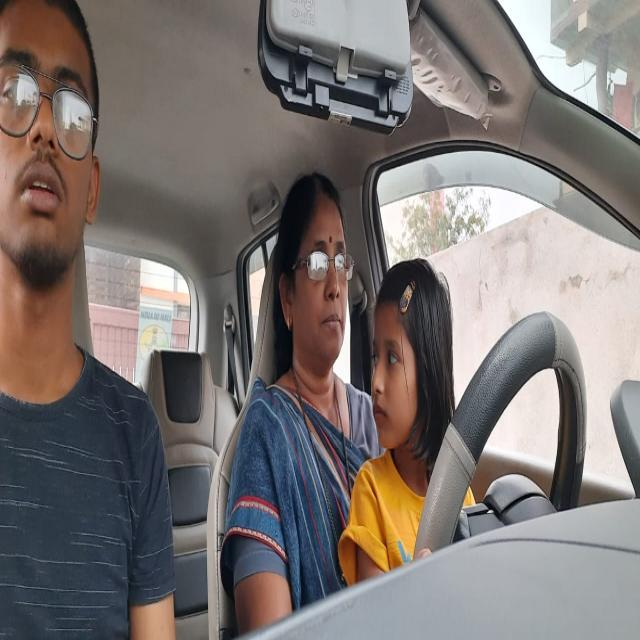child: (368, 265, 447, 451)
person: (274, 173, 356, 371)
